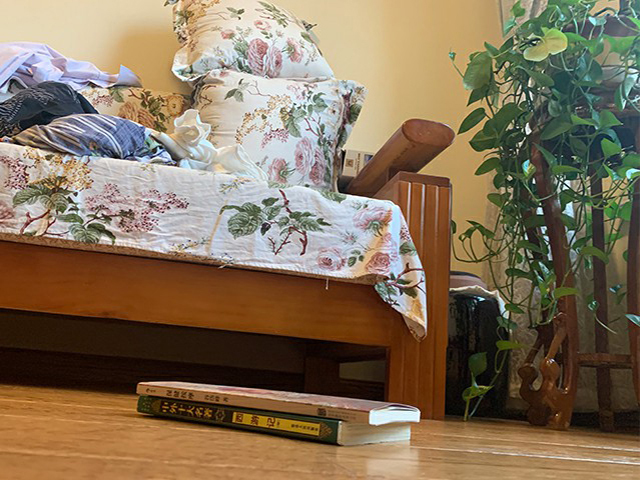book: (136, 380, 421, 448)
sofa: (1, 1, 454, 422)
